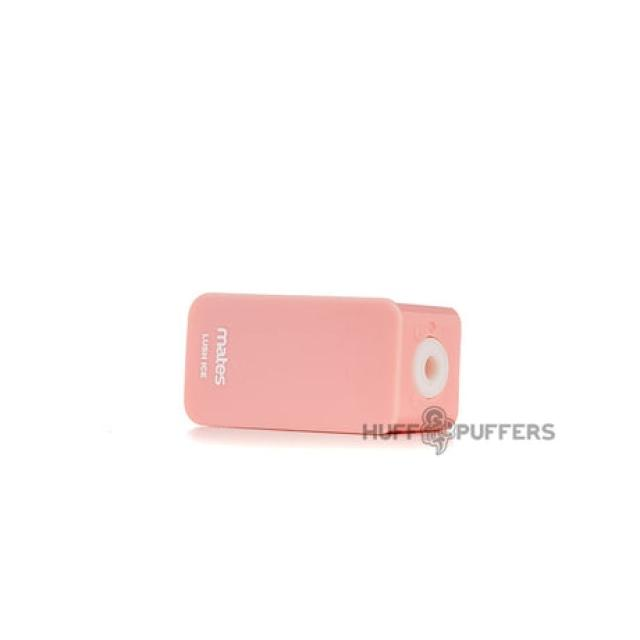Vape-images: (181, 289, 462, 441)
